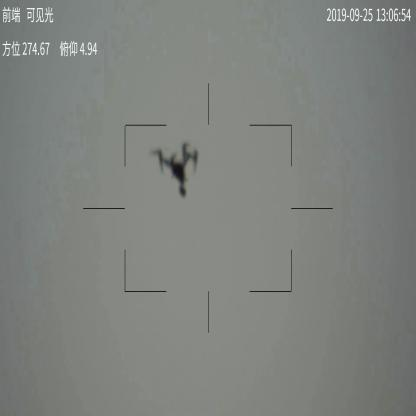uav: (149, 139, 200, 201)
